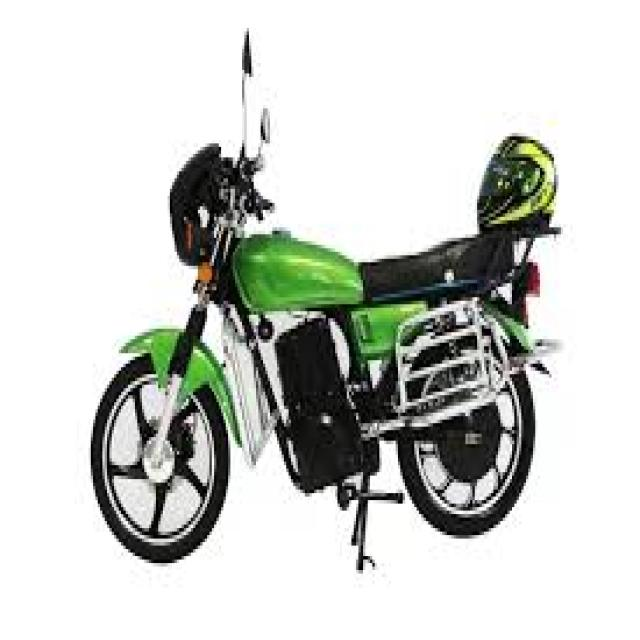bodaboda: (56, 15, 595, 601)
